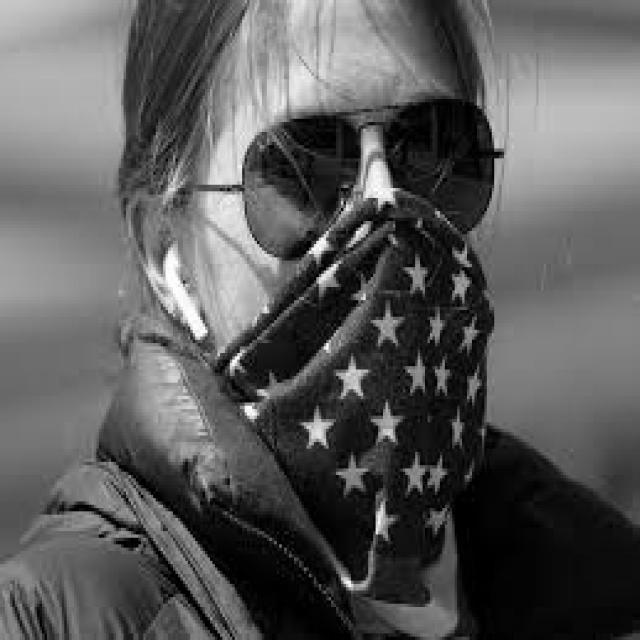fake: (211, 204, 493, 640), (238, 93, 512, 258)
